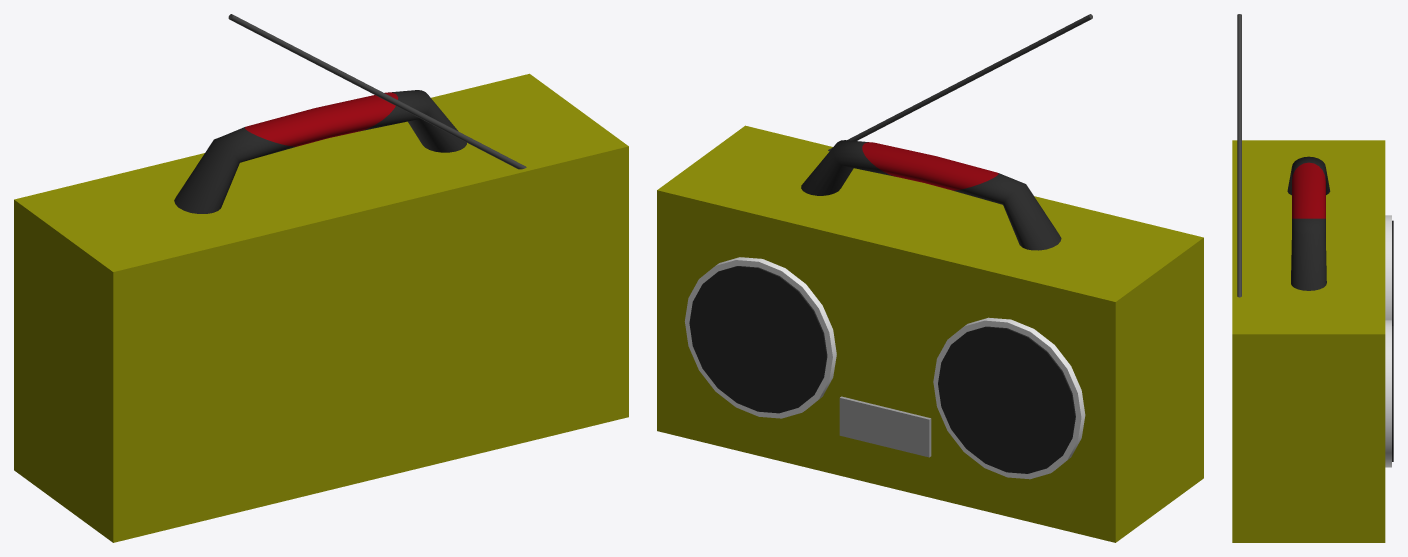
Rendered from ラジカセ.fbx.
The picture shows the model from 3 angles, left to right: view 1: azimuth 30°, elevation 25°; view 2: azimuth 150°, elevation 25°; view 3: azimuth 270°, elevation 25°; orthographic projection. The views are drawn at different scales.
Parts seen in each view (by area): view 1: pasted__pasted__pCylinder1; view 2: pasted__pasted__pCylinder1; view 3: pasted__pasted__pCylinder1.
Part boxes in pixels (left/top/right/bottom): pasted__pasted__pCylinder1: left=14, top=14, right=628, bottom=542; pasted__pasted__pCylinder1: left=657, top=14, right=1203, bottom=542; pasted__pasted__pCylinder1: left=1232, top=14, right=1393, bottom=542.
Bounding box in the file's own units: 2.37 × 2.17 × 0.8318.
